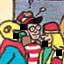waldo: (17, 14, 43, 40)
